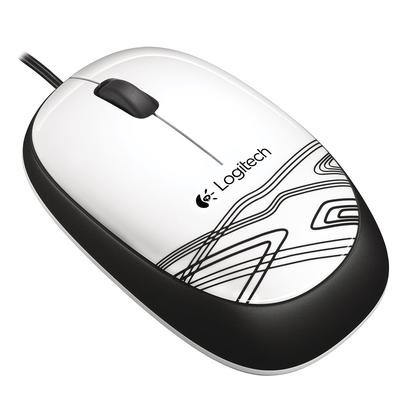mouse: (18, 43, 393, 379)
